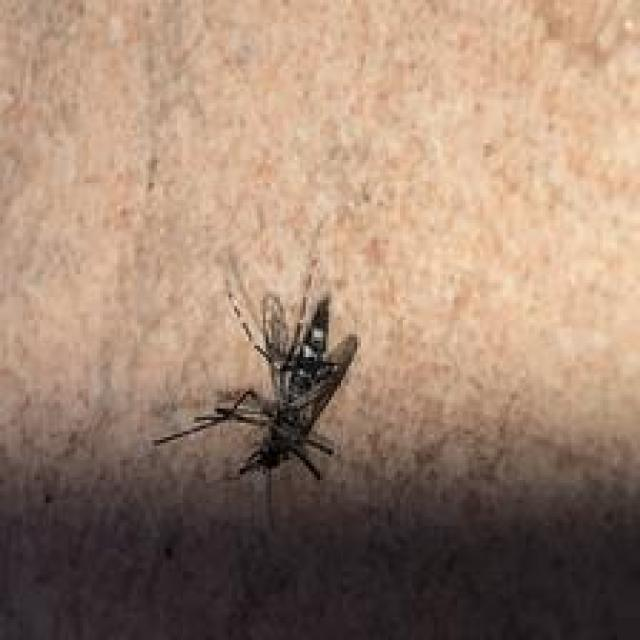Aedes albopictus: (151, 256, 360, 527)
